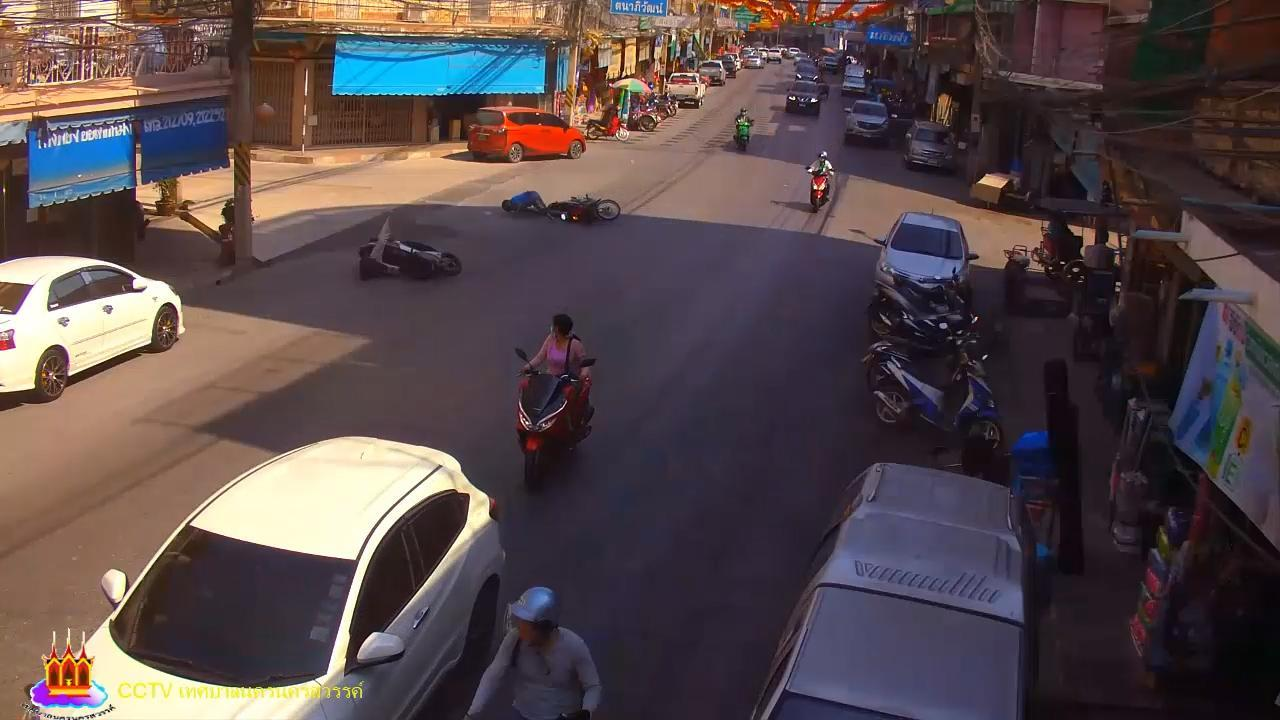accident: (500, 187, 553, 218)
